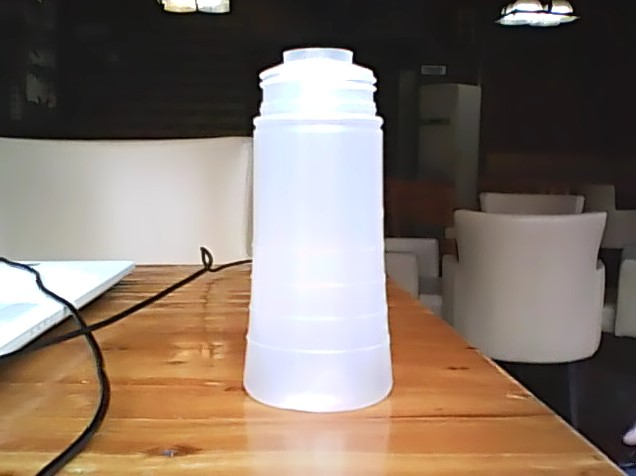Plastic: (241, 45, 397, 413)
